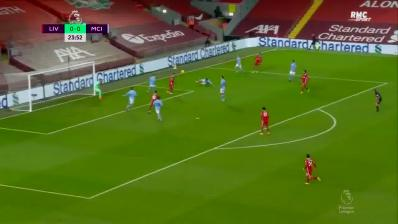football: (180, 69, 186, 74)
player: (300, 152, 321, 187), (258, 105, 272, 138), (122, 86, 138, 112), (298, 69, 311, 95), (146, 90, 160, 114), (250, 52, 264, 74), (166, 72, 178, 96), (287, 59, 299, 83), (218, 76, 228, 103), (233, 54, 246, 74), (93, 78, 104, 101), (146, 74, 158, 94), (155, 96, 164, 120), (194, 78, 213, 87)
referee: (370, 87, 384, 114)
